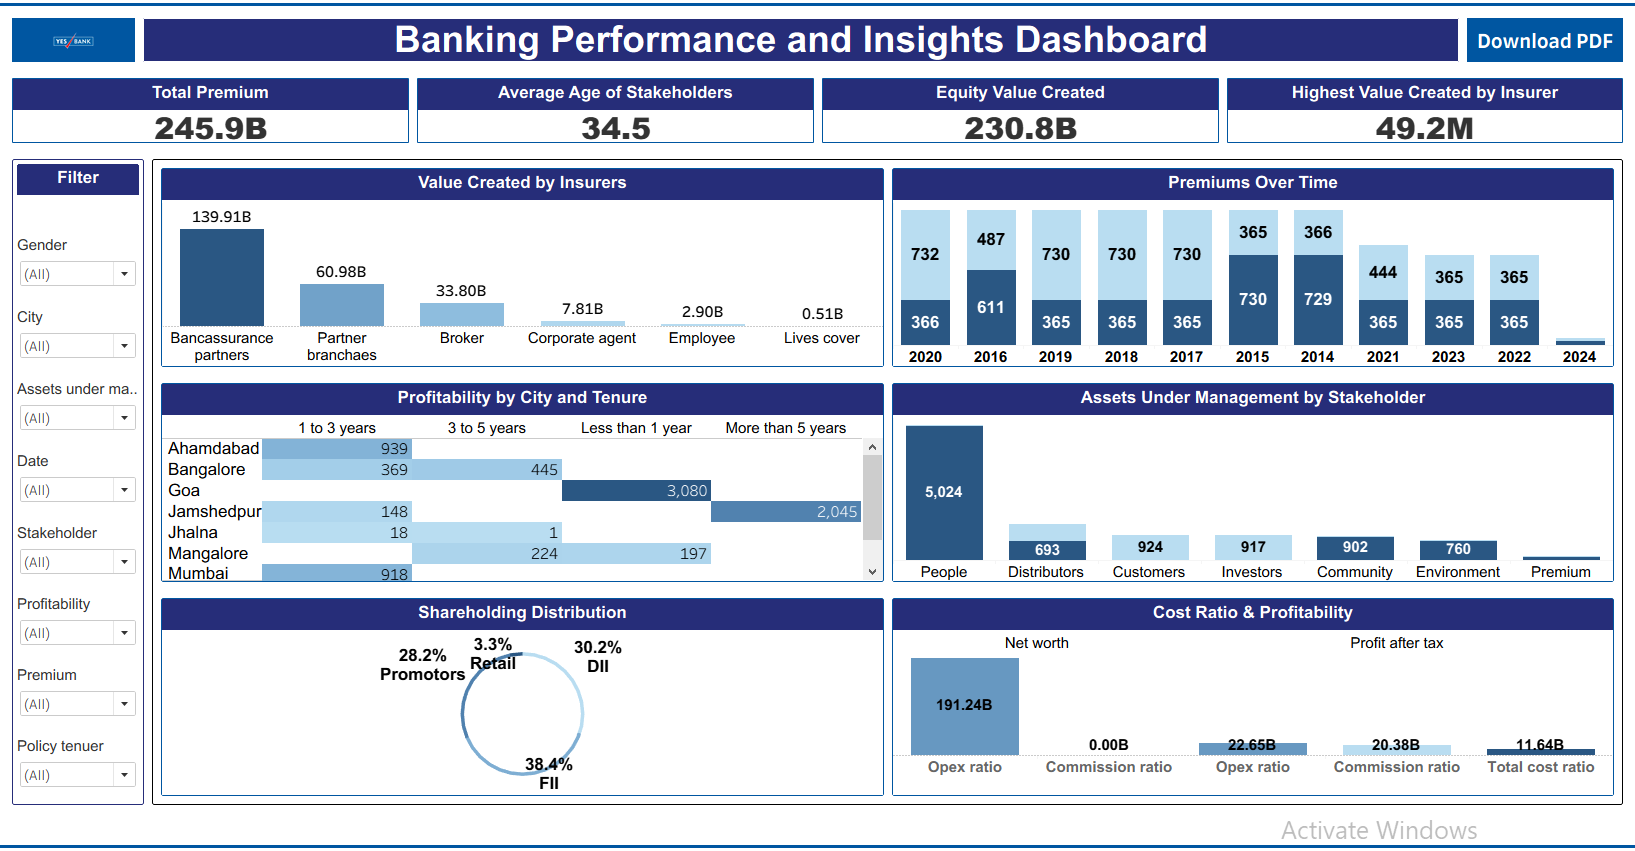

What the dashboard file says about the page in this screenshot:
{"tool":"tableau","page":{"name":"Dashboard 1","canvas":[1000,1000],"units":"permille","ordinal":0},"visuals":[{"type":"image","param":"Image/Yes-Bank-Logo.png","box":[11.5,22.1,79.1,60.4]},{"type":"text","box":[90.5,22.1,799.1,60.4]},{"type":"dashboard-object","box":[889.6,22.1,99,60.4]},{"type":"worksheet","title":"Total Premium","mark":"Automatic","box":[11.5,91.8,244.4,84.8]},{"type":"worksheet","title":"Average Age of Stakeholders","mark":"Automatic","box":[255.9,91.8,244.4,84.8]},{"type":"worksheet","title":"Equity Value Created","mark":"Automatic","box":[500.3,91.8,244.4,84.8]},{"type":"worksheet","title":"Highest Value Created by Insurer","mark":"Automatic","box":[744.7,91.8,243.8,84.8]},{"type":"worksheet","title":"Filter","mark":"Automatic","box":[14.5,191.6,78.5,83.6]},{"type":"worksheet","title":"Values Created by Insurer","mark":"Automatic","rows":["Value Created"],"cols":["Insurer"],"box":[101.4,196.3,441.2,240.4]},{"type":"worksheet","title":"Premiums Over Time","mark":"Bar","rows":["Premium 1"],"cols":["Date"],"box":[542.5,196.3,440.6,240.4]},{"type":"filter","title":"Filter","param":"[federated.094cfin1y5ziuc1b5ol2f0e3a5f7].[none:Gender:nk]","box":[14.5,275.3,78.5,83.6]},{"type":"filter","title":"Filter","param":"[federated.094cfin1y5ziuc1b5ol2f0e3a5f7].[none:City:nk]","box":[14.5,358.9,78.5,83.6]},{"type":"filter","title":"Filter","param":"[federated.094cfin1y5ziuc1b5ol2f0e3a5f7].[none:Assets under management:nk]","box":[14.5,442.5,78.5,83.6]},{"type":"worksheet","title":"Profitability by City and Tenure","mark":"Square","rows":["City"],"cols":["Policy tenuer"],"box":[101.4,446,441.2,240.4]},{"type":"worksheet","title":"Assets Under Management by Stakeholder","mark":"Automatic","rows":["Assets under management"],"cols":["Stakeholder"],"box":[542.5,446,440.6,240.4]},{"type":"filter","title":"Filter","param":"[federated.094cfin1y5ziuc1b5ol2f0e3a5f7].[my:Date:ok]","box":[14.5,526.1,78.5,83.6]},{"type":"filter","title":"Filter","param":"[federated.094cfin1y5ziuc1b5ol2f0e3a5f7].[none:Stakeholder:nk]","box":[14.5,609.8,78.5,82.5]},{"type":"filter","title":"Filter","param":"[federated.094cfin1y5ziuc1b5ol2f0e3a5f7].[none:Profitability:nk]","box":[14.5,692.2,78.5,82.5]},{"type":"worksheet","title":"Shareholding Distribution","mark":"Pie","rows":["Calculation_0644088080171008","Calculation_0644088080171008"],"box":[101.4,695.7,441.2,239.3]},{"type":"worksheet","title":"Cost Ratio & Profitability","mark":"Automatic","rows":["Value Created"],"cols":["Profitability","Cost ratio"],"box":[542.5,695.7,440.6,239.3]},{"type":"filter","title":"Filter","param":"[federated.094cfin1y5ziuc1b5ol2f0e3a5f7].[none:Premium 1:nk]","box":[14.5,774.7,78.5,82.5]},{"type":"filter","title":"Filter","param":"[federated.094cfin1y5ziuc1b5ol2f0e3a5f7].[none:Policy tenuer:nk]","box":[14.5,857.1,78.5,82.5]}]}

Visuals, with their boxes on the dashboard's canvas, which has no fixed pixel size, in thousandths of its width and height (x1, y1, x2, y2). These are canvas units, not pixel positions in the 1635x851 screenshot, which may show the page scaled, cropped or inside an application window:
image: 12/22/91/82
text: 90/22/890/82
dashboard-object: 890/22/989/82
"Total Premium" worksheet: 12/92/256/177
"Average Age of Stakeholders" worksheet: 256/92/500/177
"Equity Value Created" worksheet: 500/92/745/177
"Highest Value Created by Insurer" worksheet: 745/92/988/177
"Filter" worksheet: 14/192/93/275
"Values Created by Insurer" worksheet: 101/196/543/437
"Premiums Over Time" worksheet (Bar marks): 542/196/983/437
"Filter" filter: 14/275/93/359
"Filter" filter: 14/359/93/442
"Filter" filter: 14/442/93/526
"Profitability by City and Tenure" worksheet (Square marks): 101/446/543/686
"Assets Under Management by Stakeholder" worksheet: 542/446/983/686
"Filter" filter: 14/526/93/610
"Filter" filter: 14/610/93/692
"Filter" filter: 14/692/93/775
"Shareholding Distribution" worksheet (Pie marks): 101/696/543/935
"Cost Ratio & Profitability" worksheet: 542/696/983/935
"Filter" filter: 14/775/93/857
"Filter" filter: 14/857/93/940
